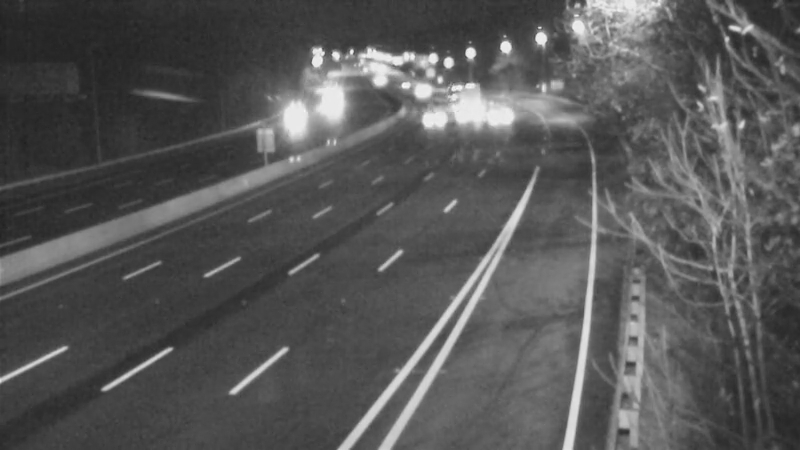vehicle: (378, 62, 428, 112), (397, 69, 447, 119), (442, 72, 492, 122), (473, 93, 523, 143), (438, 91, 488, 141), (409, 94, 459, 144), (262, 95, 312, 145), (305, 73, 355, 123)
